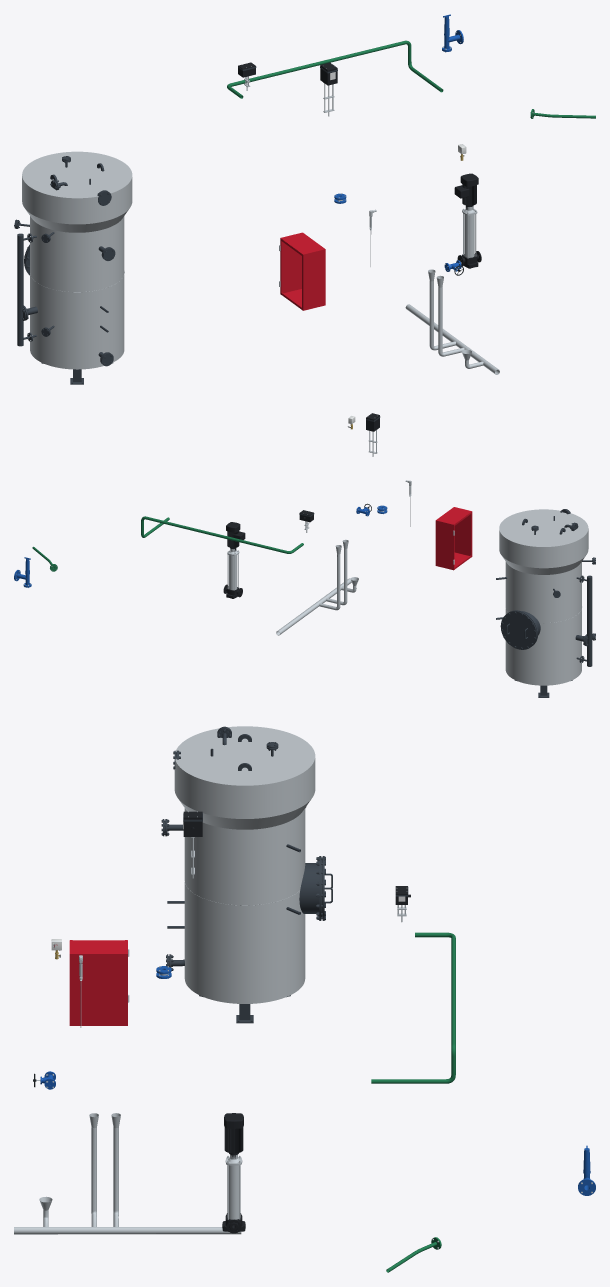
Rendered from s4000-1-DcD7_Wmy.glb.
3 renders of one model, top to bottom at view 1: azimuth 30°, elevation 25°; view 2: azimuth 150°, elevation 25°; view 3: azimuth 270°, elevation 25°, orthographic. The views are drawn at different scales.
Visible parts, largest first — view 1: deaerator / shell, control_cabinet / control_cabinet_0.npz, local_open_drains / steel, to_direct / green, deaerator / dark, pump_1 CAD solid 15; view 2: deaerator / shell, control_cabinet / control_cabinet_0.npz, local_open_drains / steel, DA3 CAD 76, to_direct / green, deaerator / dark; view 3: deaerator / shell, control_cabinet / control_cabinet_0.npz, local_open_drains / steel, to_direct / green, DA3 CAD 11, pump_1 CAD solid 15, pump_1 CAD solid 2.
Part boxes in pixels (left/top/right/bottom): deaerator / shell: left=22, top=151, right=132, bottom=369; control_cabinet / control_cabinet_0.npz: left=279, top=232, right=325, bottom=310; local_open_drains / steel: left=405, top=269, right=499, bottom=374; to_direct / green: left=227, top=40, right=443, bottom=98; deaerator / dark: left=17, top=233, right=36, bottom=346; pump_1 CAD solid 15: left=454, top=173, right=478, bottom=206; deaerator / shell: left=499, top=509, right=588, bottom=685; control_cabinet / control_cabinet_0.npz: left=435, top=507, right=472, bottom=570; local_open_drains / steel: left=276, top=539, right=358, bottom=635; DA3 CAD 76: left=500, top=611, right=536, bottom=649; to_direct / green: left=141, top=516, right=303, bottom=553; deaerator / dark: left=576, top=575, right=592, bottom=666; deaerator / shell: left=174, top=726, right=315, bottom=1003; control_cabinet / control_cabinet_0.npz: left=69, top=940, right=129, bottom=1025; local_open_drains / steel: left=14, top=1113, right=241, bottom=1234; to_direct / green: left=371, top=932, right=455, bottom=1083; DA3 CAD 11: left=299, top=863, right=319, bottom=913; pump_1 CAD solid 15: left=224, top=1113, right=243, bottom=1154; pump_1 CAD solid 2: left=227, top=1165, right=240, bottom=1219.
Size of the model in its own units: 8.51 by 3.6 by 5.3.
